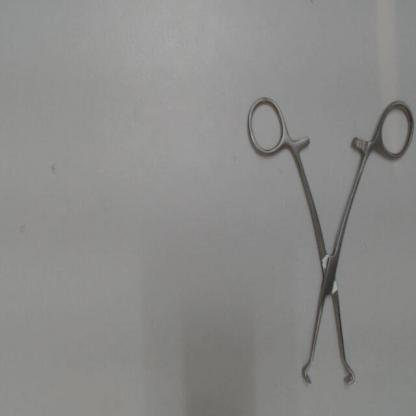Babcock Tissue Forceps: (236, 89, 415, 391)
